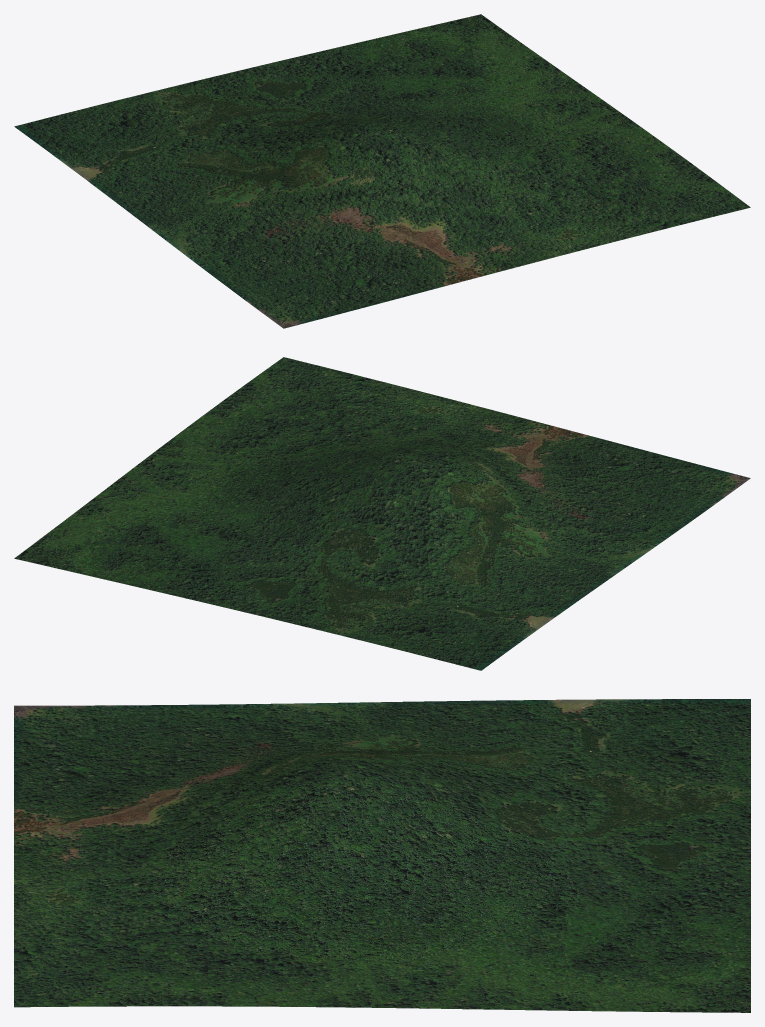
Rendered from terrain_real_T_W03_S03.glb.
3 renders of one model, top to bottom at view 1: azimuth 30°, elevation 25°; view 2: azimuth 150°, elevation 25°; view 3: azimuth 270°, elevation 25°, orthographic. The views are drawn at different scales.
Parts seen in each view (by area): view 1: Terrain_Real_DEM_T_W03_S03; view 2: Terrain_Real_DEM_T_W03_S03; view 3: Terrain_Real_DEM_T_W03_S03.
Boxes of the visible parts, box(x1,y1,x2,y2) form: Terrain_Real_DEM_T_W03_S03: box(14, 14, 750, 328); Terrain_Real_DEM_T_W03_S03: box(14, 357, 750, 670); Terrain_Real_DEM_T_W03_S03: box(14, 699, 750, 1012).
Bounding box in the file's own units: 2000 × 218 × 2000.
Materials: 1 (1 with a texture image).
